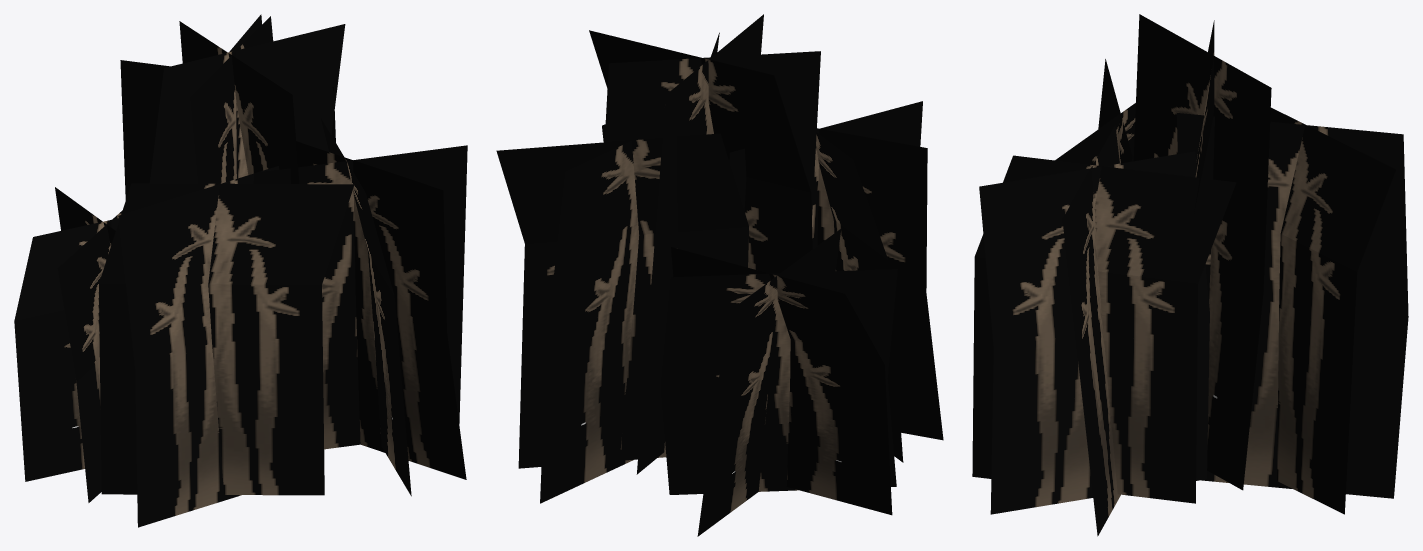
File: mdlCLTallGrass.fbx
3 renders of one model, left to right at view 1: azimuth 30°, elevation 25°; view 2: azimuth 150°, elevation 25°; view 3: azimuth 270°, elevation 25°, orthographic. The views are drawn at different scales.
Visible parts, largest first — view 1: Tall Grass; view 2: Tall Grass; view 3: Tall Grass.
Boxes of the visible parts, <box> form: Tall Grass: <box>14,14,467,527</box>; Tall Grass: <box>496,14,943,536</box>; Tall Grass: <box>972,14,1408,536</box>.
Size of the model in its own units: 406 by 417 by 400.
